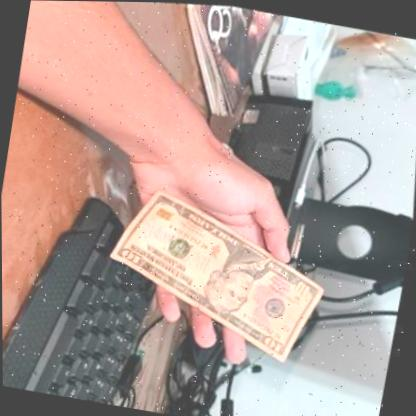ten-front: (82, 156, 353, 389)
